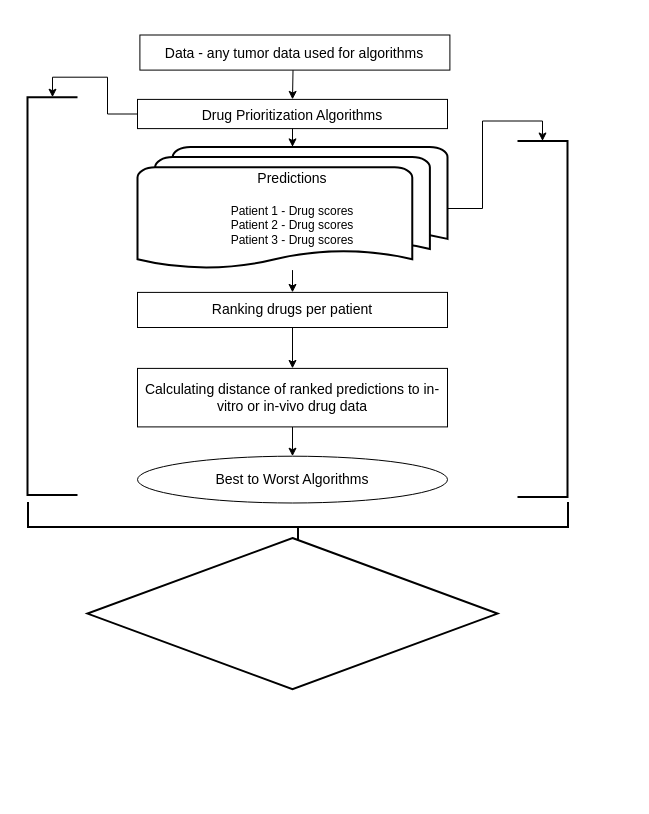
Some shapes in this 649 by 814 pixel diagram are drawn without their labels. Each missing label, with the centre of its shape:
"Fully Simulated" goes at point (542, 319).
"Minimal subset to recreate or validate results - optimization" goes at point (292, 613).
"Ranking" goes at point (52, 295).
